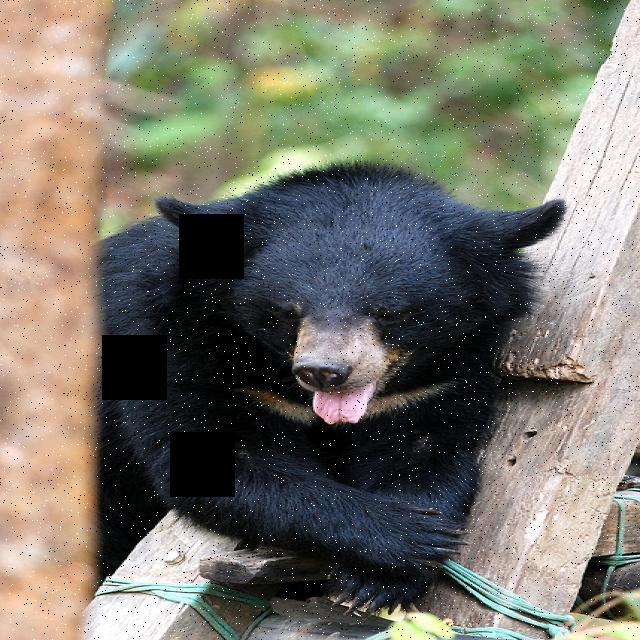Bear: (71, 159, 562, 611)
